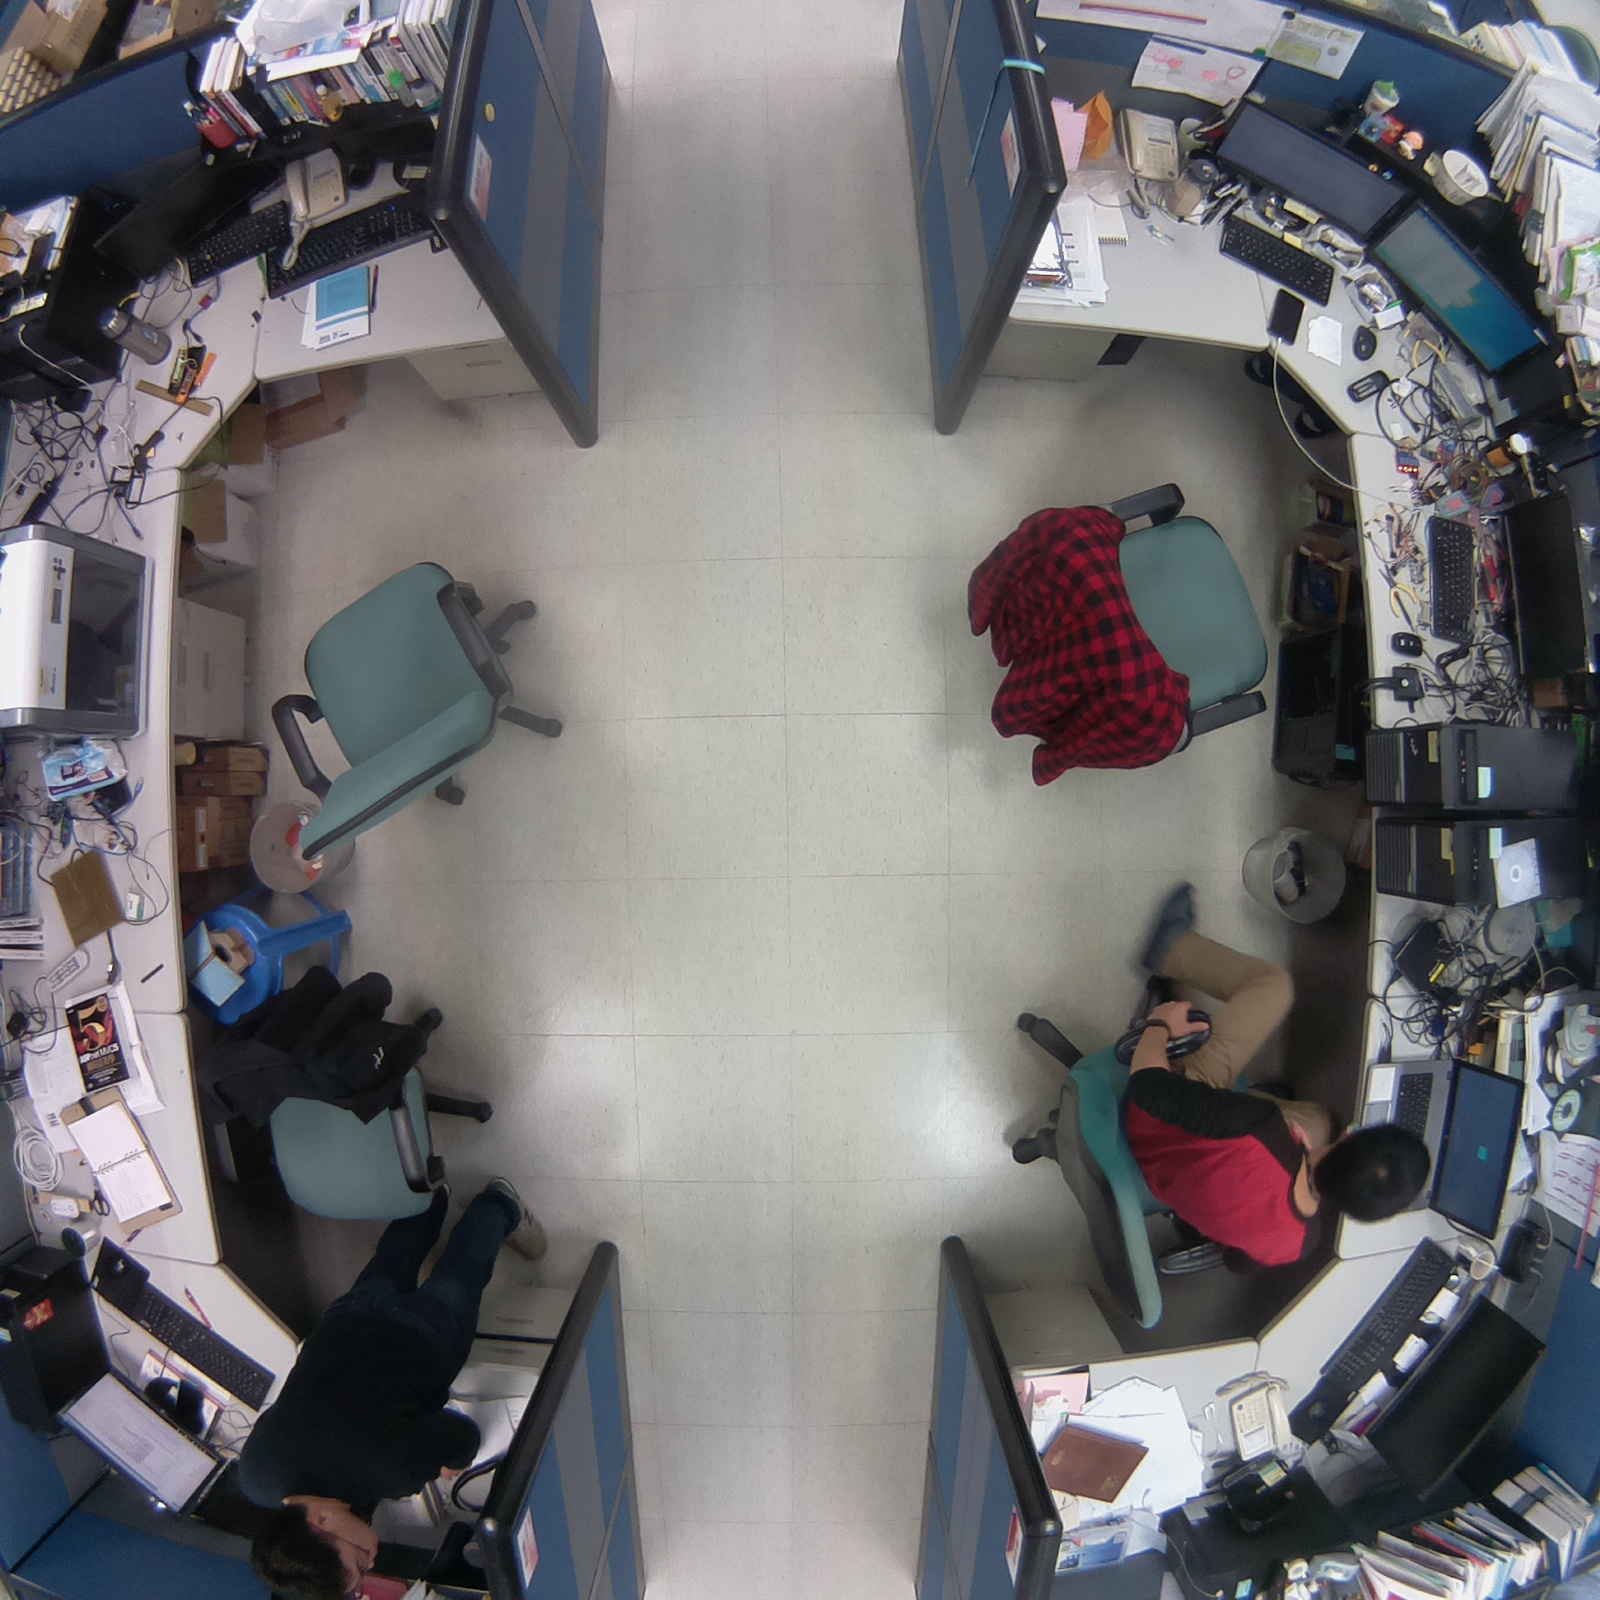chair: (947, 458, 1301, 814), (247, 524, 596, 881), (194, 942, 519, 1240)
head: (242, 1487, 395, 1600), (1312, 1110, 1436, 1234)
sitting: (968, 873, 1442, 1347)
standing: (222, 1169, 568, 1600)
